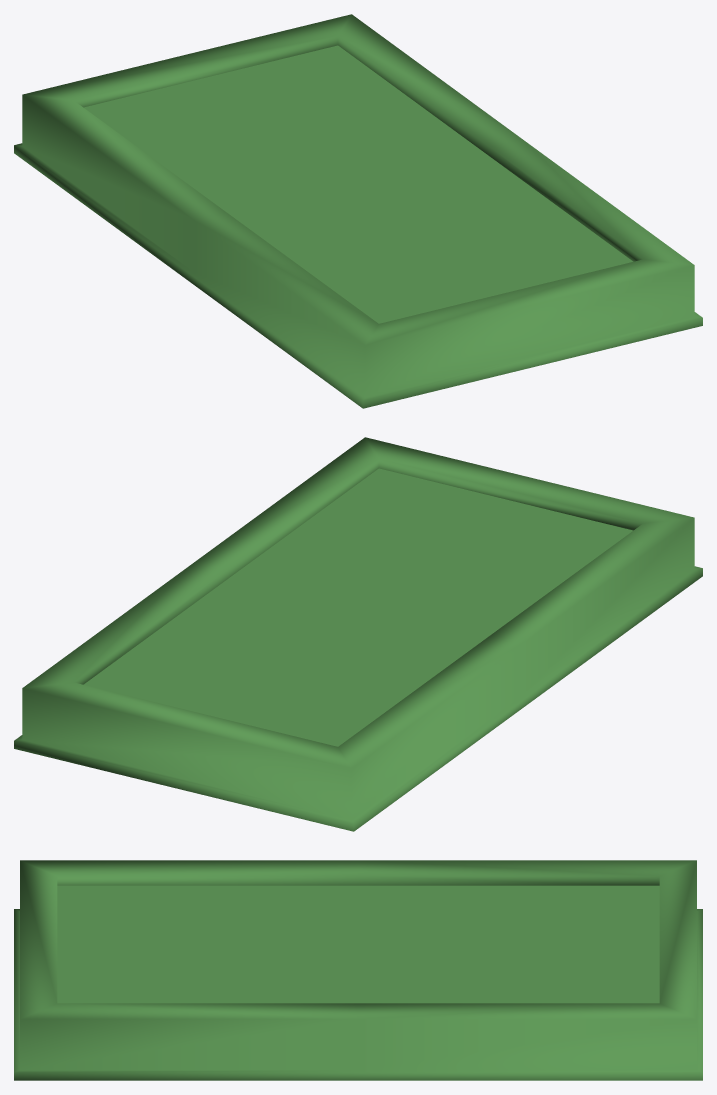
File: Ventilation Hole.FBX
3 renders of one model, top to bottom at view 1: azimuth 30°, elevation 25°; view 2: azimuth 150°, elevation 25°; view 3: azimuth 270°, elevation 25°, orthographic.
Parts seen in each view (by area): view 1: Ventilation hole, Drain; view 2: Ventilation hole, Drain; view 3: Ventilation hole, Drain.
Part boxes in pixels (x1,y1,x2,y2): Ventilation hole: [14, 14, 702, 408]; Drain: [83, 45, 633, 323]; Ventilation hole: [14, 437, 702, 831]; Drain: [83, 468, 633, 746]; Ventilation hole: [14, 860, 702, 1080]; Drain: [57, 885, 659, 1003].
Bounding box in the file's own units: 514 × 86.25 × 915.
